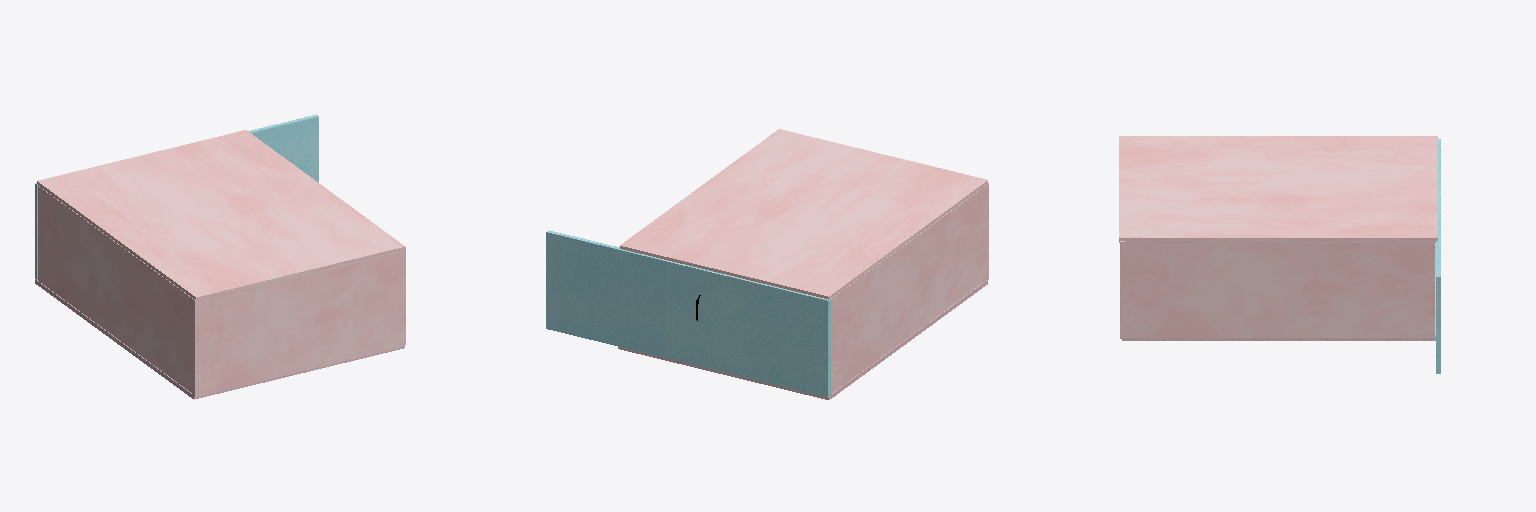
3 views of the same model, side by side, from view 1: azimuth 30°, elevation 25°; view 2: azimuth 150°, elevation 25°; view 3: azimuth 270°, elevation 25° (orthographic).
Parts seen in each view (by area): view 1: group2 polySurface892, polySurface896, polySurface891 group2, polySurface895, group2 polySurface894; view 2: group2 polySurface892, polySurface895, polySurface891 group2, group2 polySurface894; view 3: group2 polySurface892, group2 polySurface893, group2 polySurface894, polySurface895.
Part boxes in pixels (x1,y1,x2,y2): group2 polySurface892: (37, 130, 405, 301); polySurface896: (193, 251, 404, 396); polySurface891 group2: (38, 186, 192, 393); polySurface895: (35, 114, 318, 279); group2 polySurface894: (35, 279, 404, 399); group2 polySurface892: (620, 129, 987, 299); polySurface895: (546, 230, 830, 397); polySurface891 group2: (831, 186, 985, 393); group2 polySurface894: (618, 280, 987, 399); group2 polySurface892: (1119, 136, 1437, 242); group2 polySurface893: (1121, 242, 1434, 337); group2 polySurface894: (1122, 243, 1435, 340); polySurface895: (1436, 139, 1440, 373).
Bounding box in the file's own units: 1.16 × 0.4043 × 1.15.
7 materials, 3 textured.